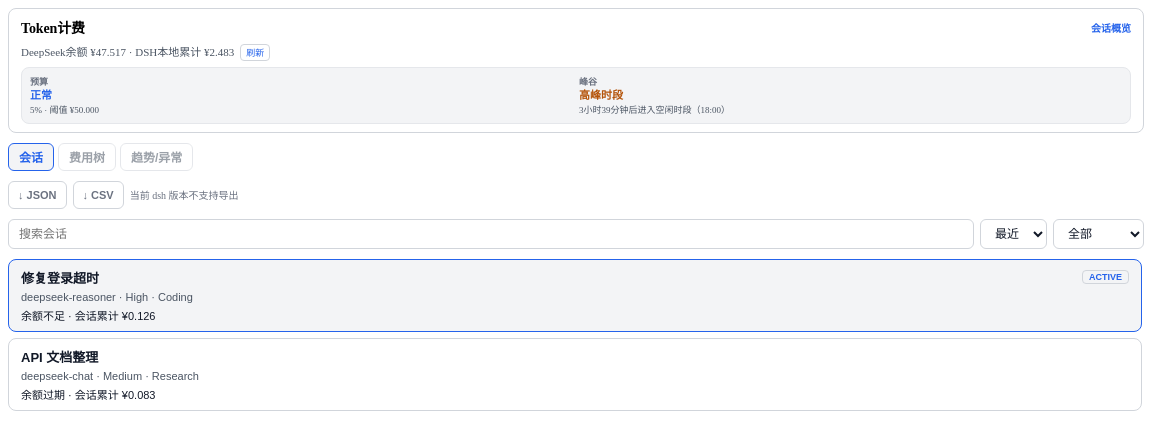
Test case: MyMeter store and mock remote › resolves and filters balance status states
The image size is (1152, 428).
Select "余额不足" in the dropdown named "筛选状态" at (1098, 234), box [1053,219,1144,249]
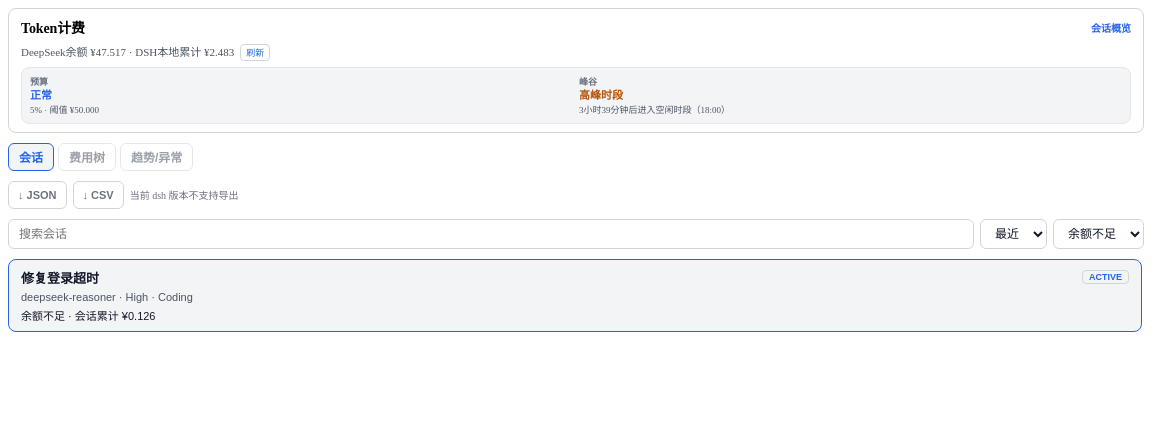
Expected: the text "修复登录超时" is shown, [21,268,99,287]
Expected: the button "API 文档整理" is gone
